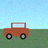vehicle: (3, 23, 28, 39)
